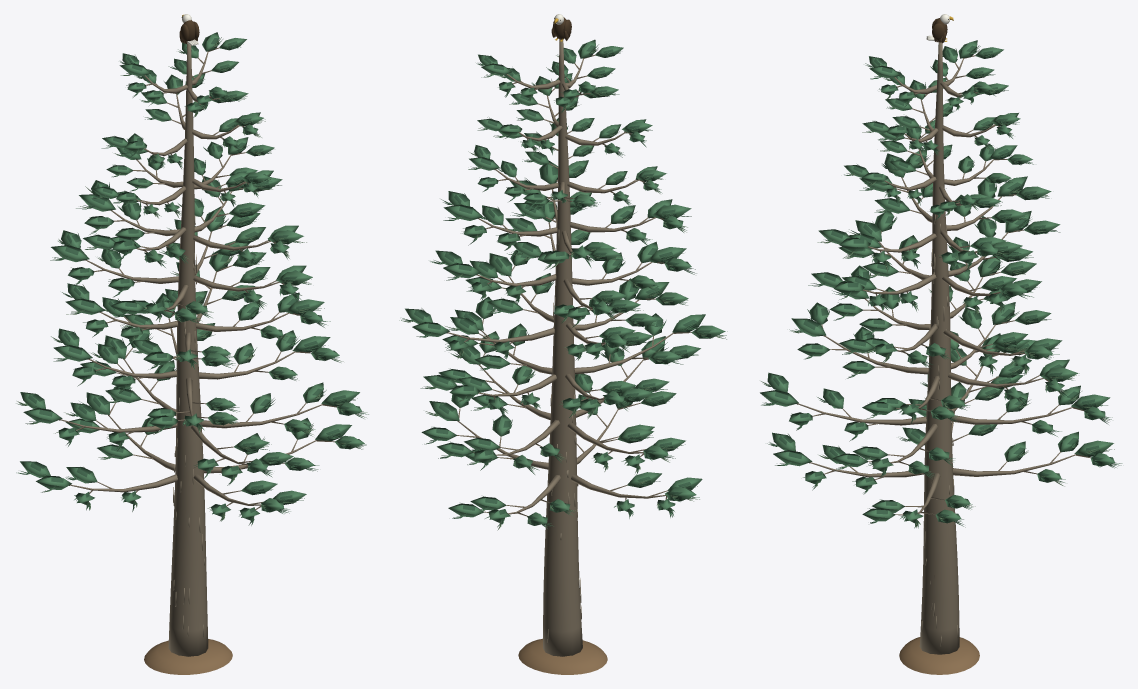
File: tree_of_peace.glb
The picture shows the model from 3 angles, left to right: view 1: azimuth 30°, elevation 25°; view 2: azimuth 150°, elevation 25°; view 3: azimuth 270°, elevation 25°; orthographic projection.
Visible parts, largest first — view 1: soft_pine_needle_tufts, pine_trunk_and_boughs, low_earth_mound; view 2: soft_pine_needle_tufts, pine_trunk_and_boughs, low_earth_mound; view 3: soft_pine_needle_tufts, pine_trunk_and_boughs, low_earth_mound.
Boxes of the visible parts, x1,y1,x2,y2 form: soft_pine_needle_tufts: (16, 32, 368, 525); pine_trunk_and_boughs: (59, 43, 336, 656); low_earth_mound: (144, 639, 232, 674); soft_pine_needle_tufts: (399, 39, 727, 530); pine_trunk_and_boughs: (446, 39, 691, 656); low_earth_mound: (518, 638, 607, 674); soft_pine_needle_tufts: (760, 40, 1122, 528); pine_trunk_and_boughs: (795, 42, 1090, 654); low_earth_mound: (899, 637, 979, 674).
Size of what is drawn, in the model's own units: 8.73 by 18.23 by 9.41.
